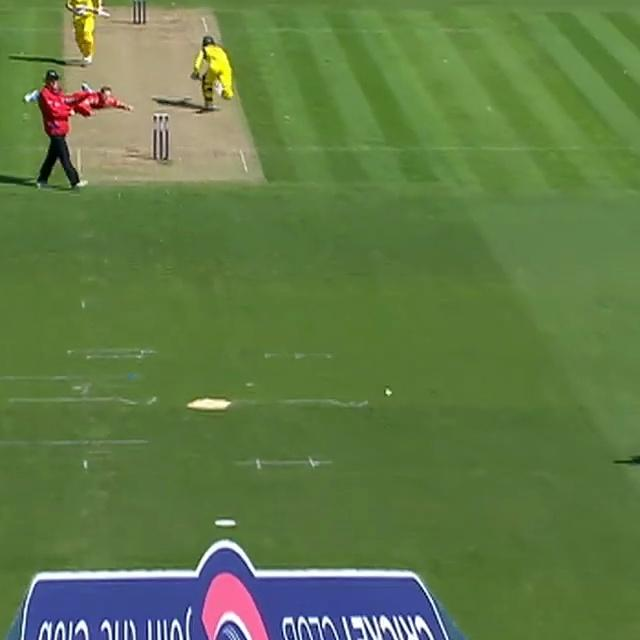umpire: (18, 67, 108, 194)
